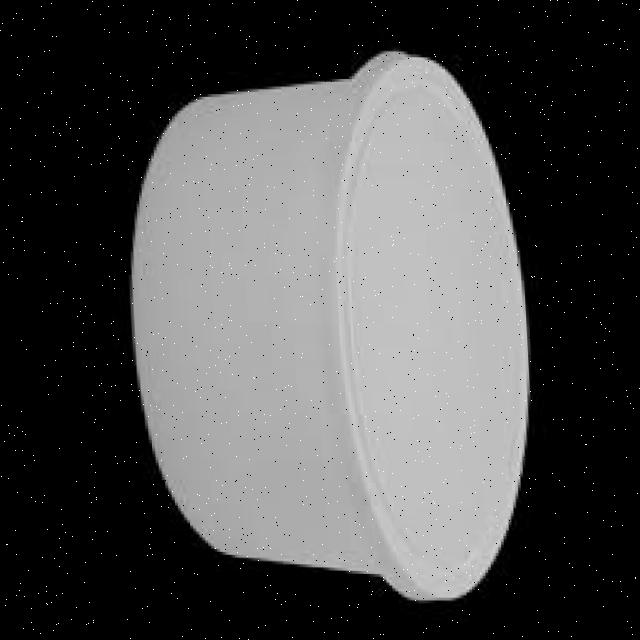disposable: (78, 36, 566, 616)
